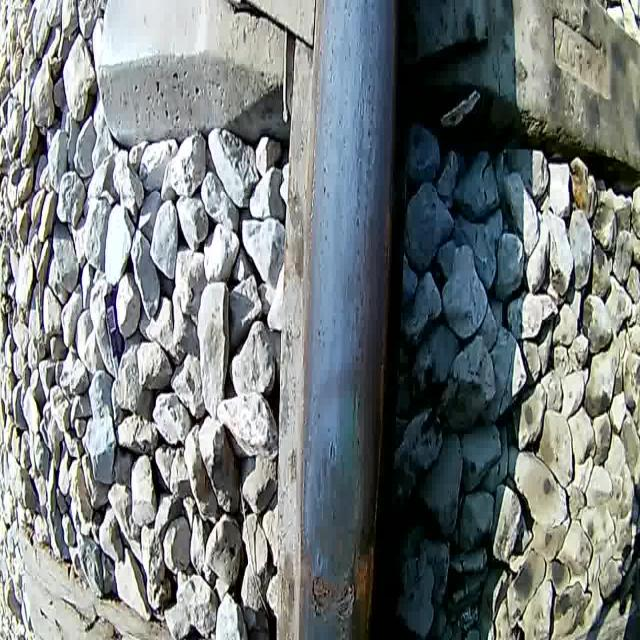Spallings: (308, 568, 360, 632)
